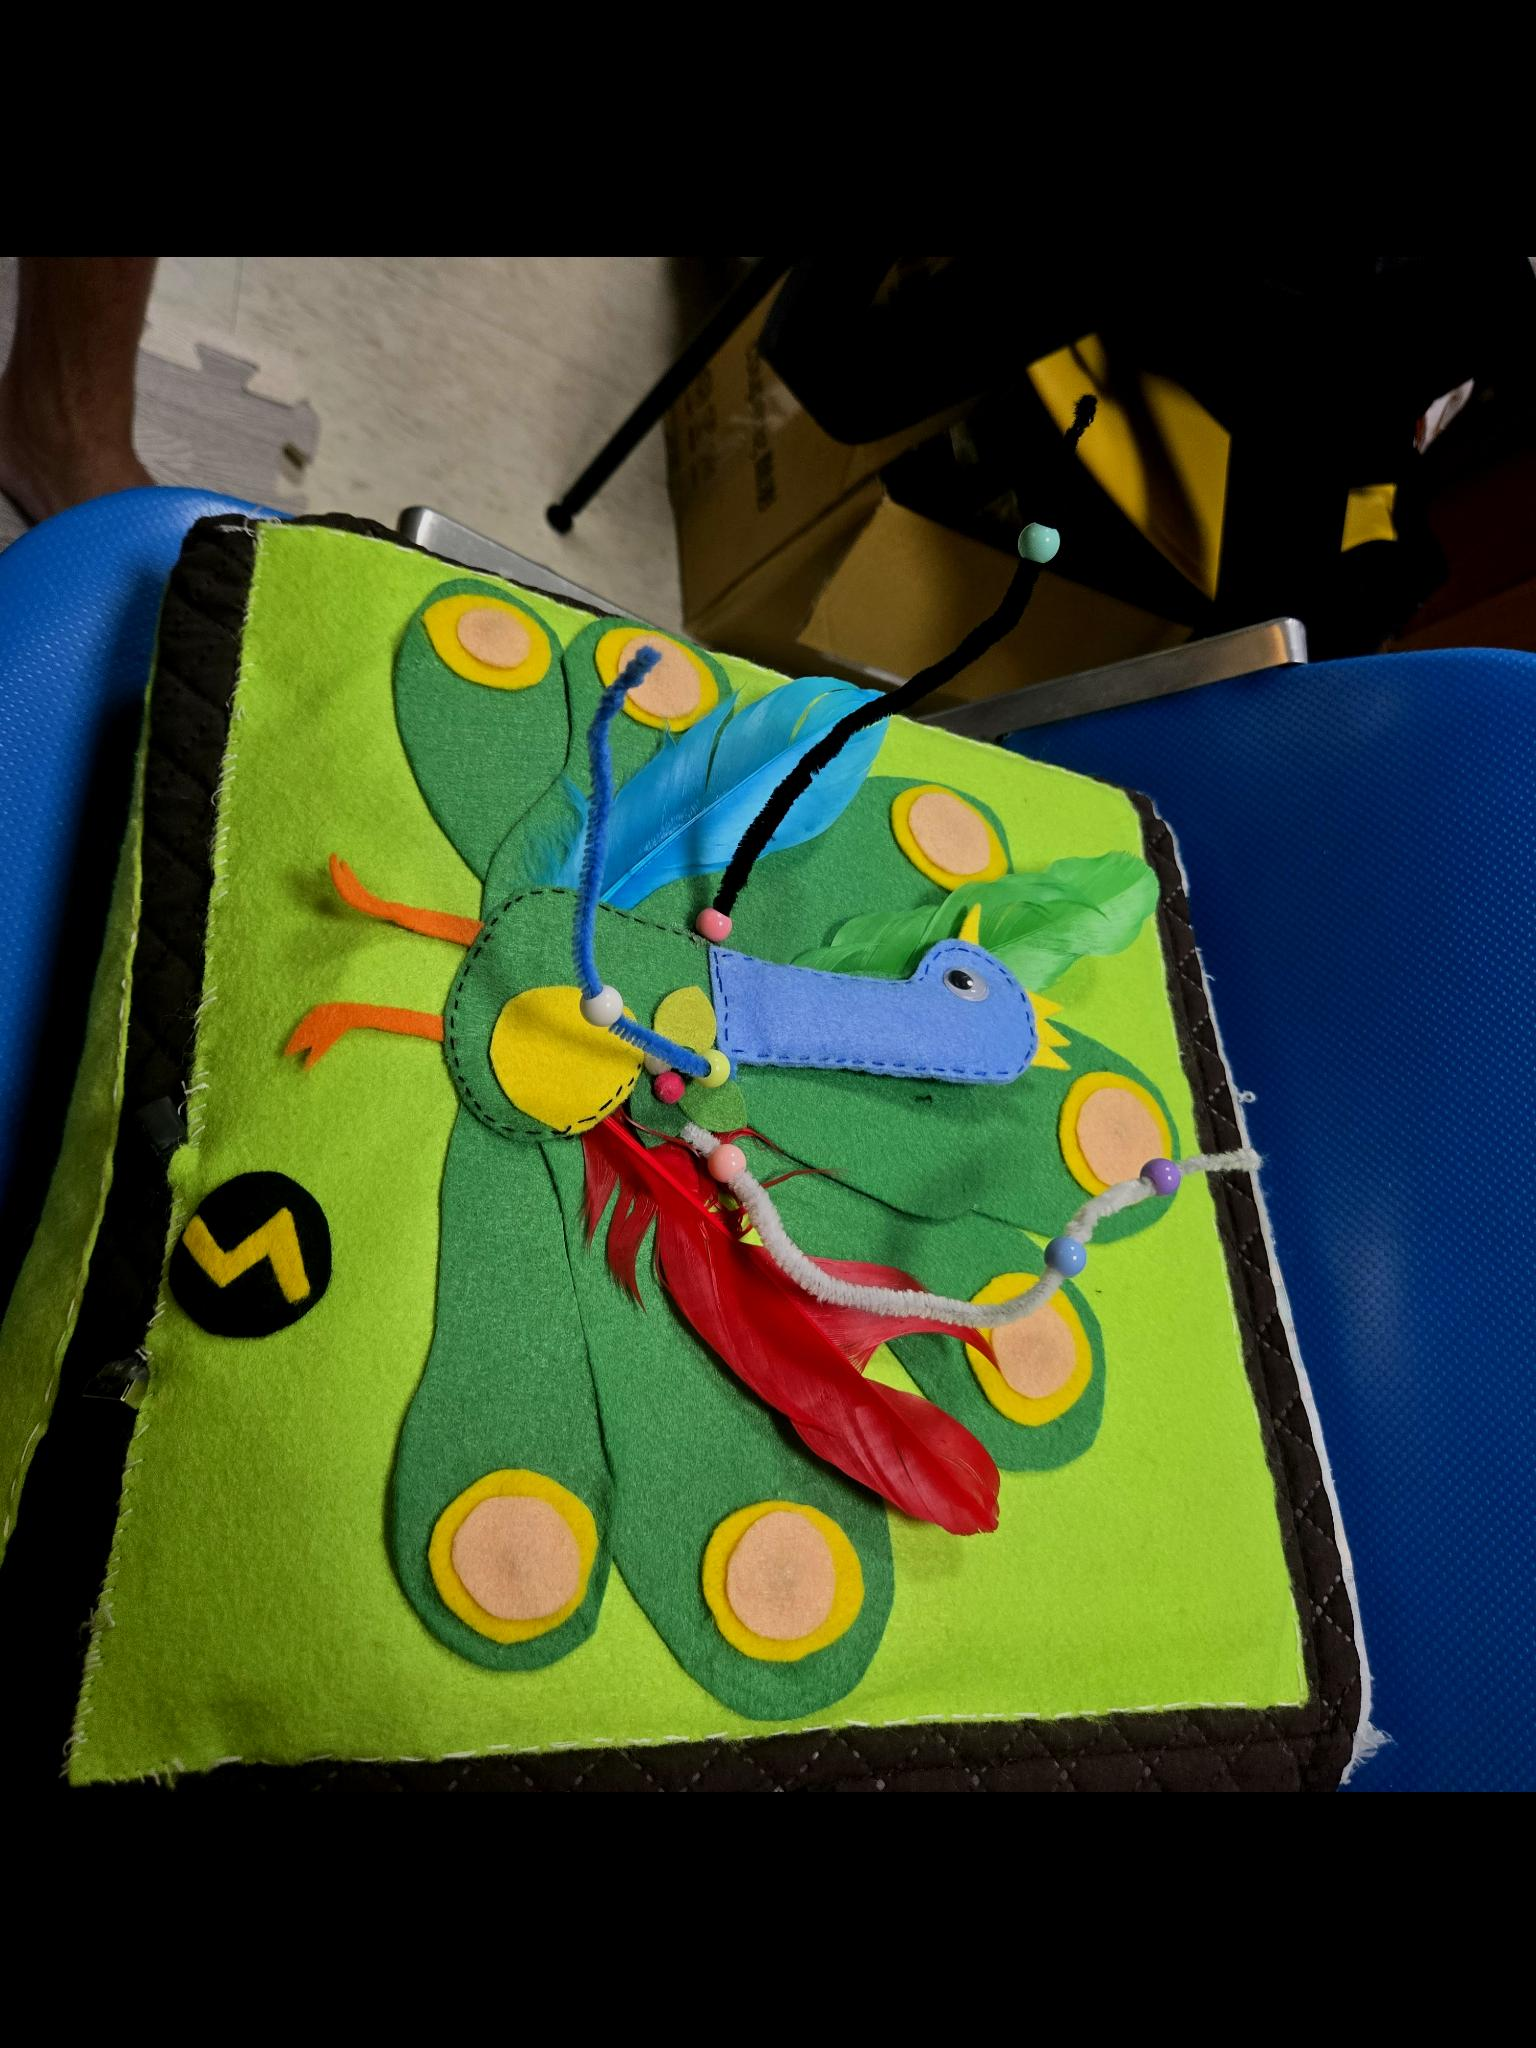bead: (1004, 492, 1074, 586), (1126, 1142, 1202, 1208), (566, 978, 644, 1040), (1016, 1228, 1100, 1282), (688, 1034, 756, 1094), (680, 896, 756, 946), (684, 1136, 756, 1188)
